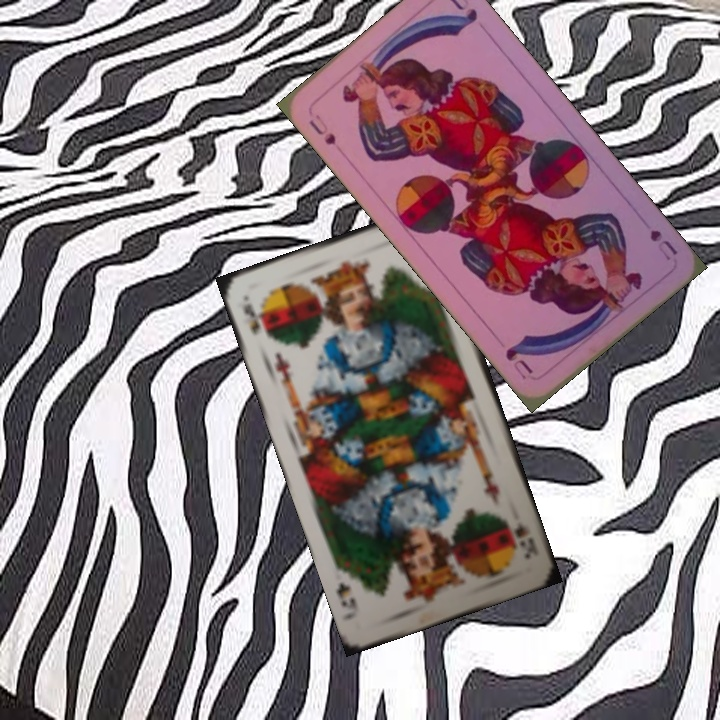SK: (239, 298, 272, 341), (510, 517, 541, 562)
SU: (645, 225, 681, 264), (305, 110, 339, 148)
